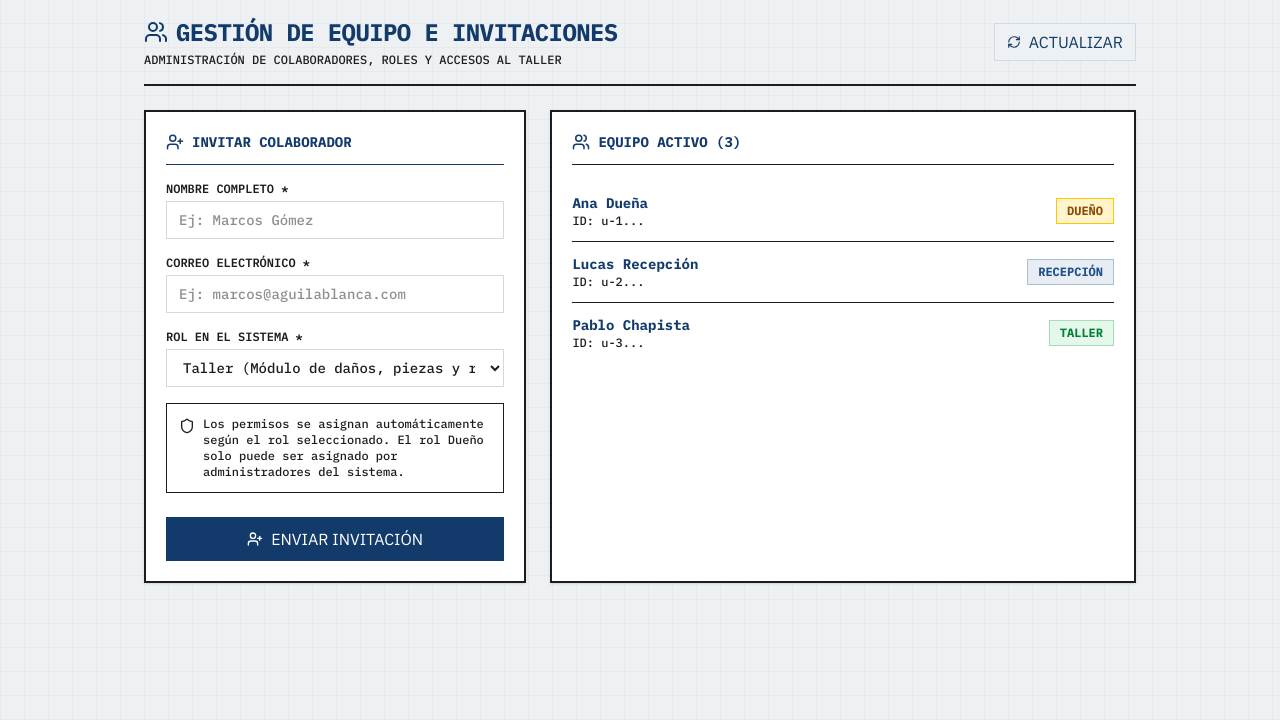
InvitarPage › valida campos obligatorios antes de enviar
Expected: the text "Ana Dueña" is shown, x1=572 y1=193 x2=648 y2=213
Click the button "Enviar Invitación". click: {"x": 335, "y": 539}
box: x1=166 y1=517 x2=504 y2=561
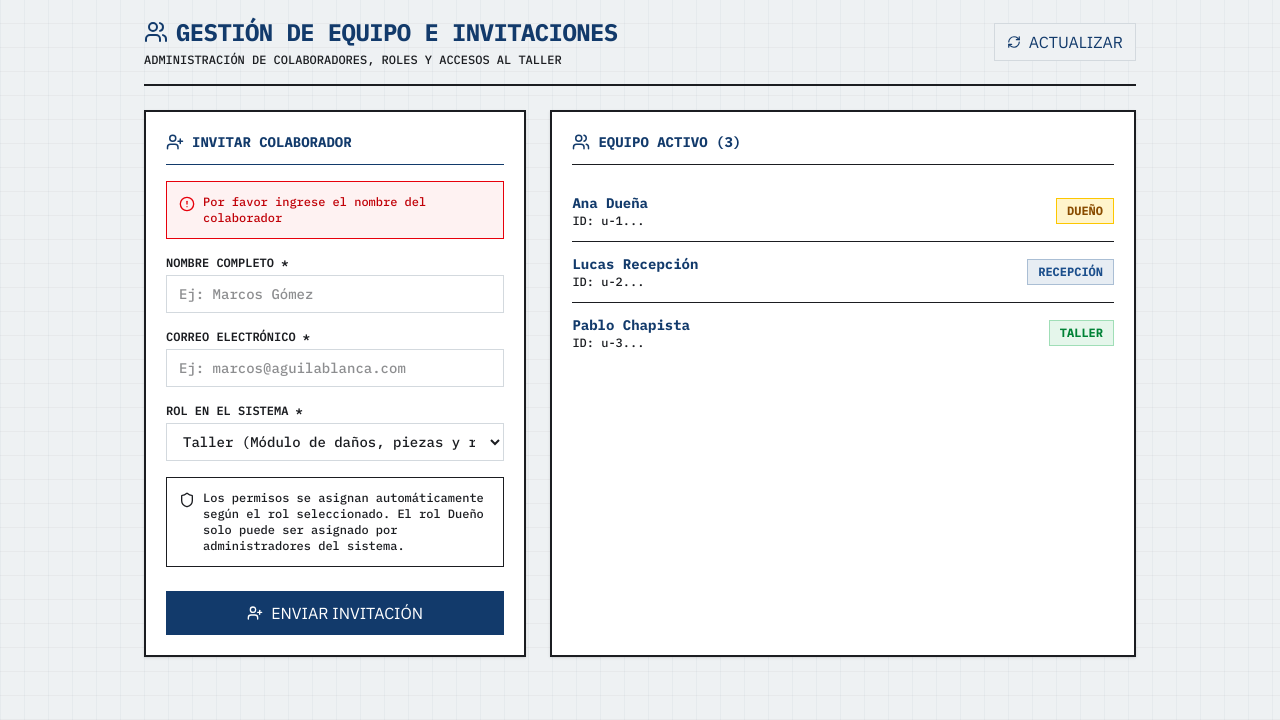
Expected: the text "Por favor ingrese el nombre del colaborador" is shown, x1=203 y1=194 x2=426 y2=225
